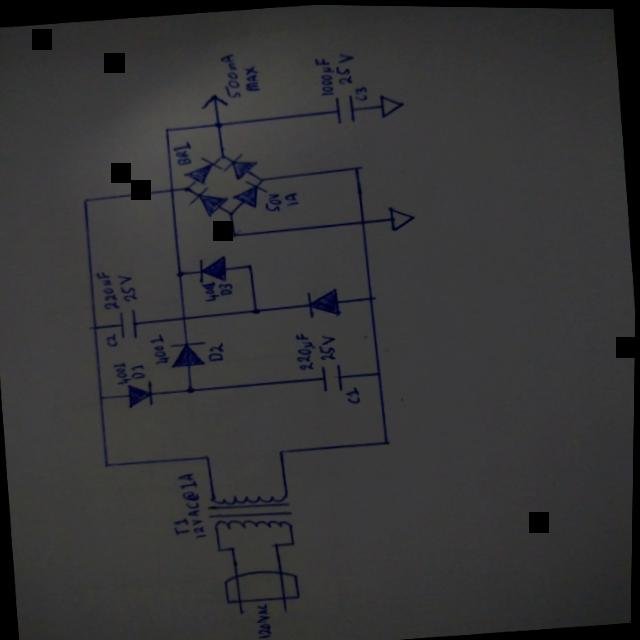capacitor: (316, 361, 346, 393), (117, 308, 138, 339), (333, 93, 354, 124)
crossover: (166, 186, 176, 195), (179, 315, 187, 322), (359, 218, 366, 225)
diode: (186, 185, 229, 219), (304, 286, 343, 321), (182, 154, 222, 187), (169, 340, 207, 369), (230, 180, 268, 209), (221, 152, 257, 182), (196, 254, 228, 284), (125, 379, 156, 409)
ground: (386, 205, 417, 231), (378, 91, 404, 118)
junction: (174, 268, 187, 279), (249, 305, 262, 316), (184, 384, 197, 394), (211, 120, 223, 129), (243, 262, 254, 271), (352, 163, 363, 172), (381, 437, 391, 445), (230, 230, 240, 237), (163, 126, 171, 134), (91, 324, 99, 331), (81, 197, 89, 204), (182, 185, 190, 192), (258, 176, 266, 183), (290, 538, 297, 546), (368, 293, 376, 300), (218, 153, 225, 160), (272, 541, 279, 548), (216, 546, 223, 553), (230, 545, 237, 552), (97, 395, 105, 401), (103, 461, 111, 467), (203, 454, 211, 460), (277, 448, 285, 454), (374, 370, 382, 376), (227, 210, 234, 216)
terminal: (198, 92, 229, 112), (236, 606, 247, 616), (281, 604, 291, 615)
text: (176, 470, 207, 539), (217, 51, 241, 99), (95, 269, 118, 311), (293, 331, 317, 371), (312, 56, 335, 96), (332, 51, 357, 85), (147, 332, 171, 367), (254, 601, 273, 640), (316, 332, 339, 361), (240, 63, 261, 93), (117, 273, 137, 303), (170, 141, 192, 167), (205, 340, 226, 363), (200, 279, 220, 303), (262, 191, 282, 214), (113, 360, 130, 386), (171, 517, 191, 536), (343, 385, 361, 404), (281, 190, 300, 207), (351, 84, 369, 101), (129, 363, 146, 380), (217, 282, 232, 297), (104, 333, 118, 348)
transformer: (206, 488, 295, 534)
